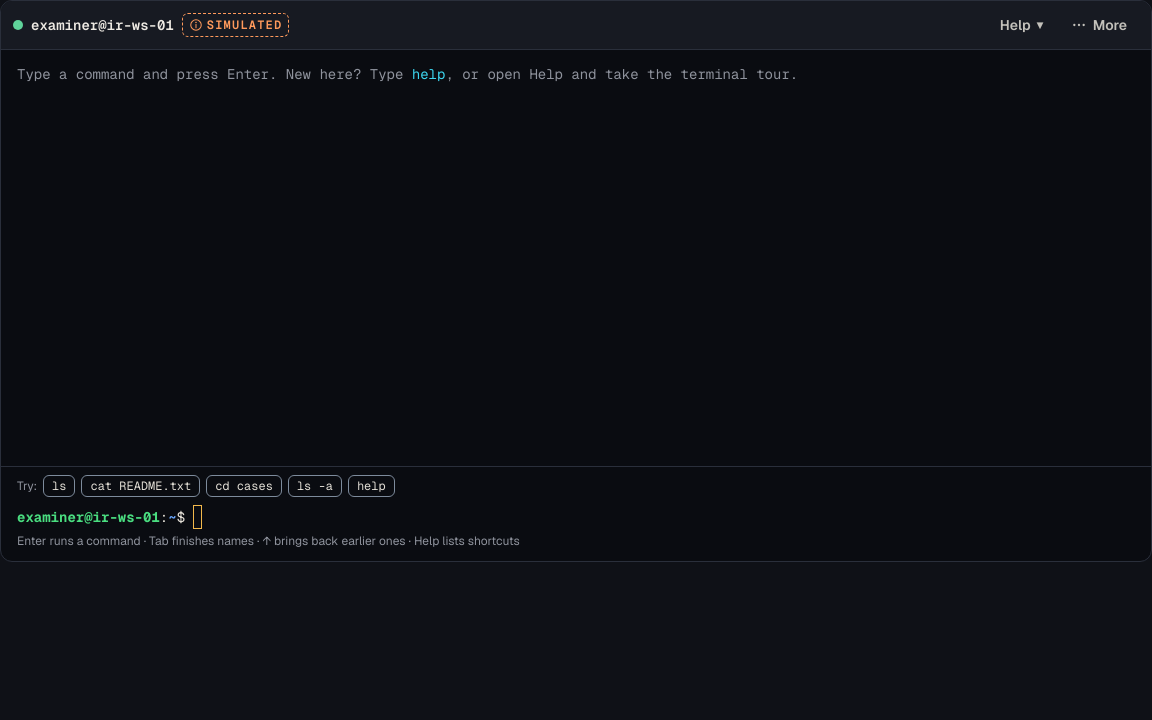
Test case: Terminal › runs a typed command and shows its output, with the simulated marker
The width and height of the screenshot is (1152, 720).
Expected: the button "Simulated" is shown, left=182, top=13, right=289, bottom=37
Type "whoami" into the field named "Command, in".
click(664, 517); type("whoami")  # box left=193, top=505, right=1135, bottom=529
Then press Enter
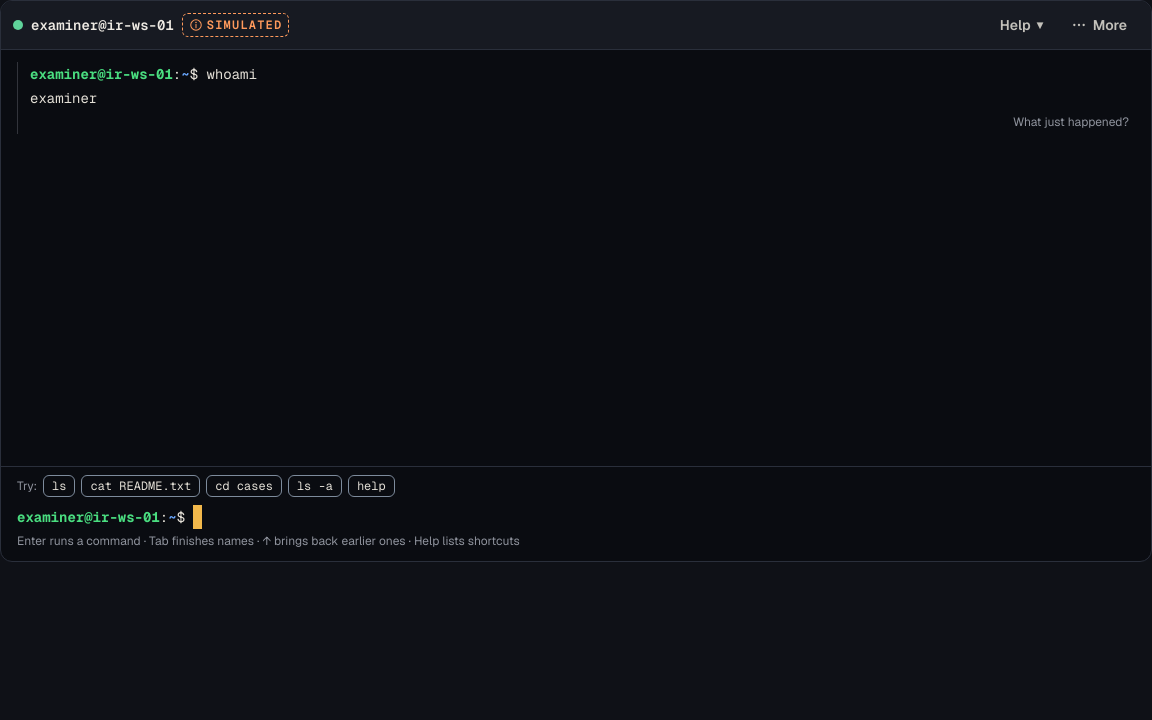
Expected: the element named "Command: whoami" shows "examiner", left=30, top=65, right=97, bottom=83
